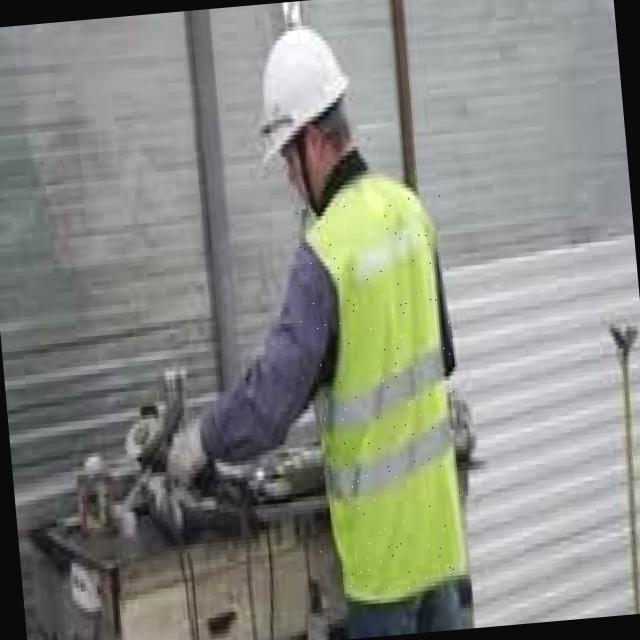helmet: (259, 21, 358, 164)
vest: (289, 193, 476, 603)
